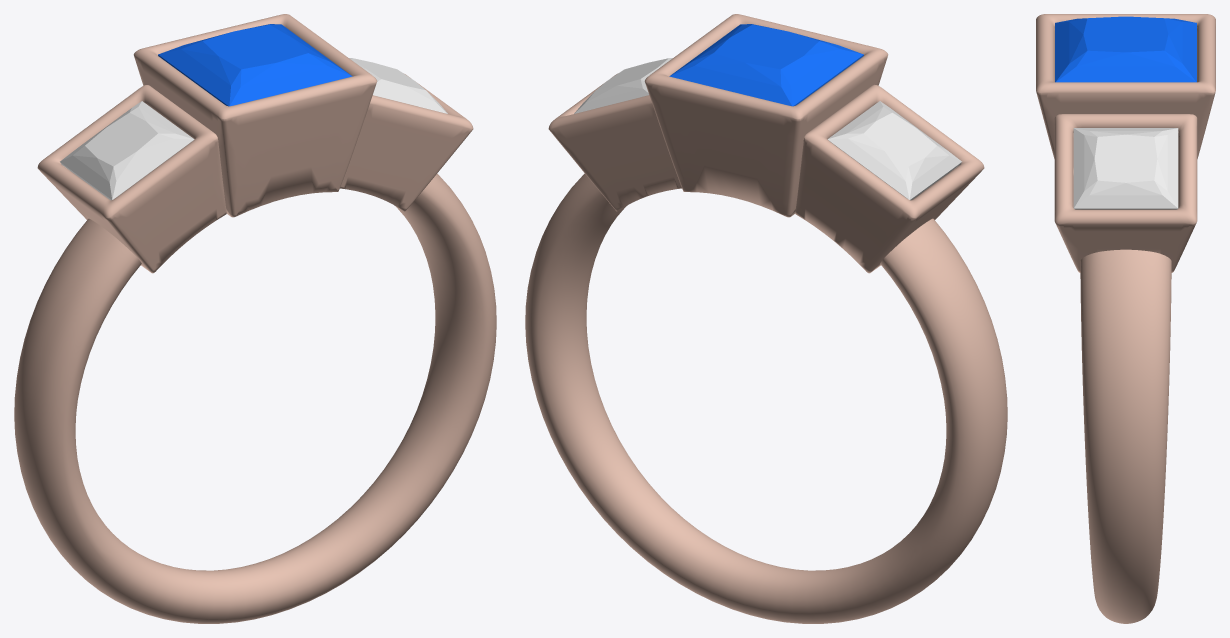
Rendered from bluesapphire-princess-rosegold-bezelset-taperedband-3stone.glb.
3 renders of one model, left to right at view 1: azimuth 30°, elevation 25°; view 2: azimuth 150°, elevation 25°; view 3: azimuth 270°, elevation 25°, orthographic.
Parts seen in each view (by area): view 1: metal, stone, side, side.001; view 2: metal, stone, side, side.001; view 3: metal, stone, side.001.
Part boxes in pixels (x1,y1,x2,y2): metal: [14, 14, 496, 623]; stone: [158, 24, 352, 106]; side: [60, 101, 194, 200]; side.001: [349, 58, 447, 113]; metal: [525, 14, 1007, 623]; stone: [669, 24, 863, 106]; side: [827, 101, 961, 200]; side.001: [574, 58, 672, 113]; metal: [1036, 14, 1215, 623]; stone: [1055, 16, 1196, 82]; side.001: [1073, 128, 1178, 209].
Size of the model in its own units: 20.49 by 23.84 by 6.89.
